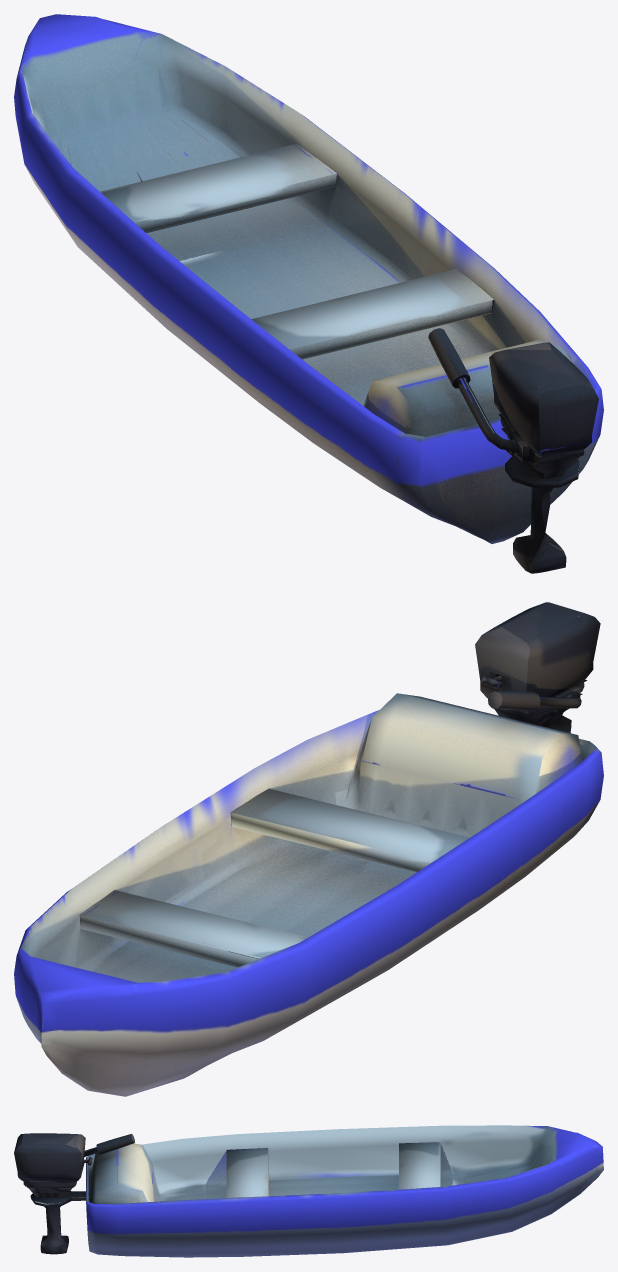
File: boat.glb
3 views of the same model, one above another, from view 1: azimuth 30°, elevation 25°; view 2: azimuth 150°, elevation 25°; view 3: azimuth 270°, elevation 25° (orthographic). The views are drawn at different scales.
Visible parts, largest first — view 1: Boat; view 2: Boat; view 3: Boat.
Boxes of the visible parts, left/top/right/bottom form: Boat: left=14, top=14, right=603, bottom=573; Boat: left=14, top=602, right=603, bottom=1096; Boat: left=14, top=1125, right=603, bottom=1257.
Size of the model in its own units: 1.36 by 1.09 by 4.87.
Materials: 2 (2 with a texture image).
